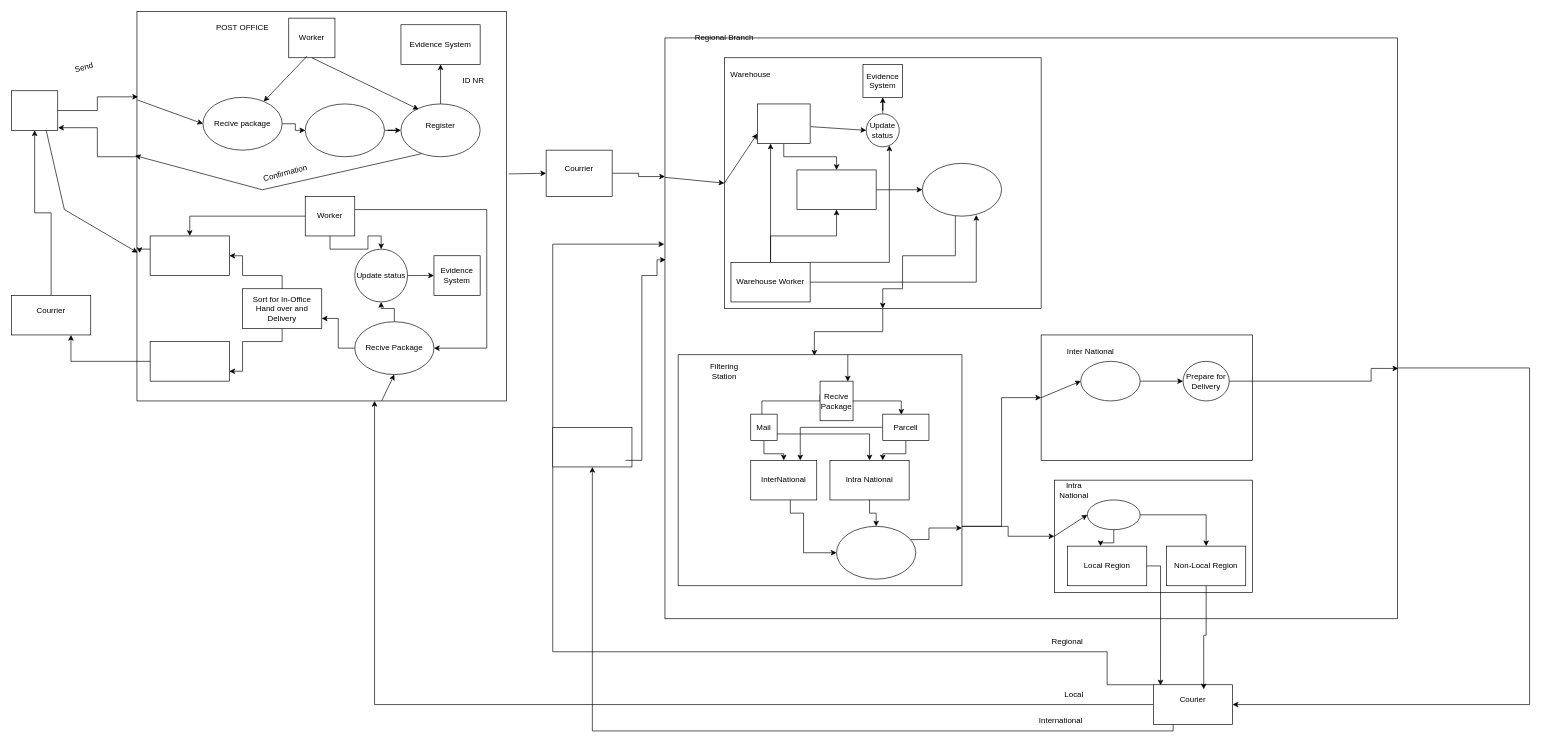
This 1546x748 diagram has some shape labels left out. Here are the shapes that lost their labels. From the top down, the box of each, then its label:
(11, 90, 58, 130): User
(305, 103, 384, 157): Calculate cost
(757, 103, 810, 144): Recieve package
(796, 169, 876, 210): Stocking
(922, 163, 1002, 216): Take out for filtering
(149, 235, 229, 276): Hand over Package
(149, 341, 229, 381): Deliver to Client
(1080, 361, 1140, 401): Split Mail by country
(552, 427, 632, 467): Redistribute Across Country Regional branches
(1087, 499, 1140, 530): Split Mail
(836, 526, 916, 579): Take out for loading
